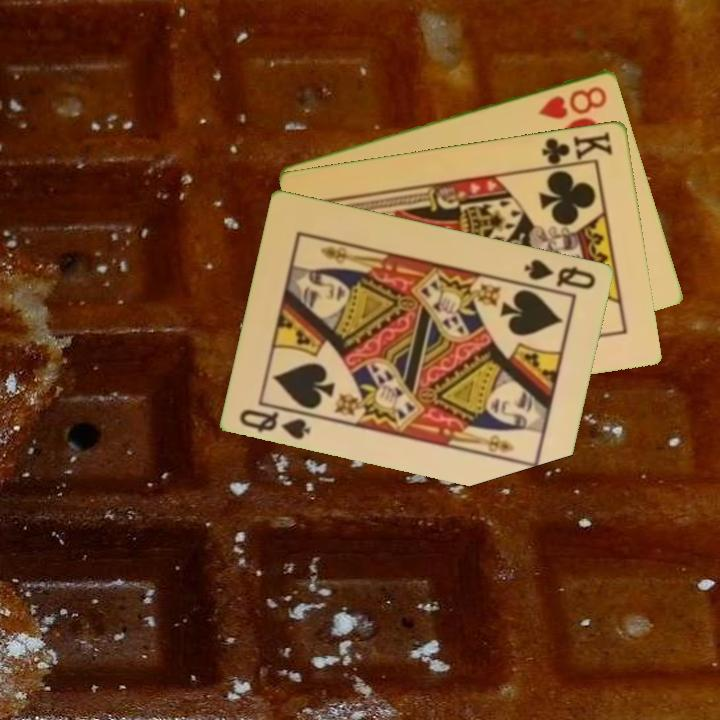8h: (534, 82, 610, 122)
Kc: (537, 127, 615, 170)
Qs: (521, 255, 599, 292), (236, 405, 314, 442)
